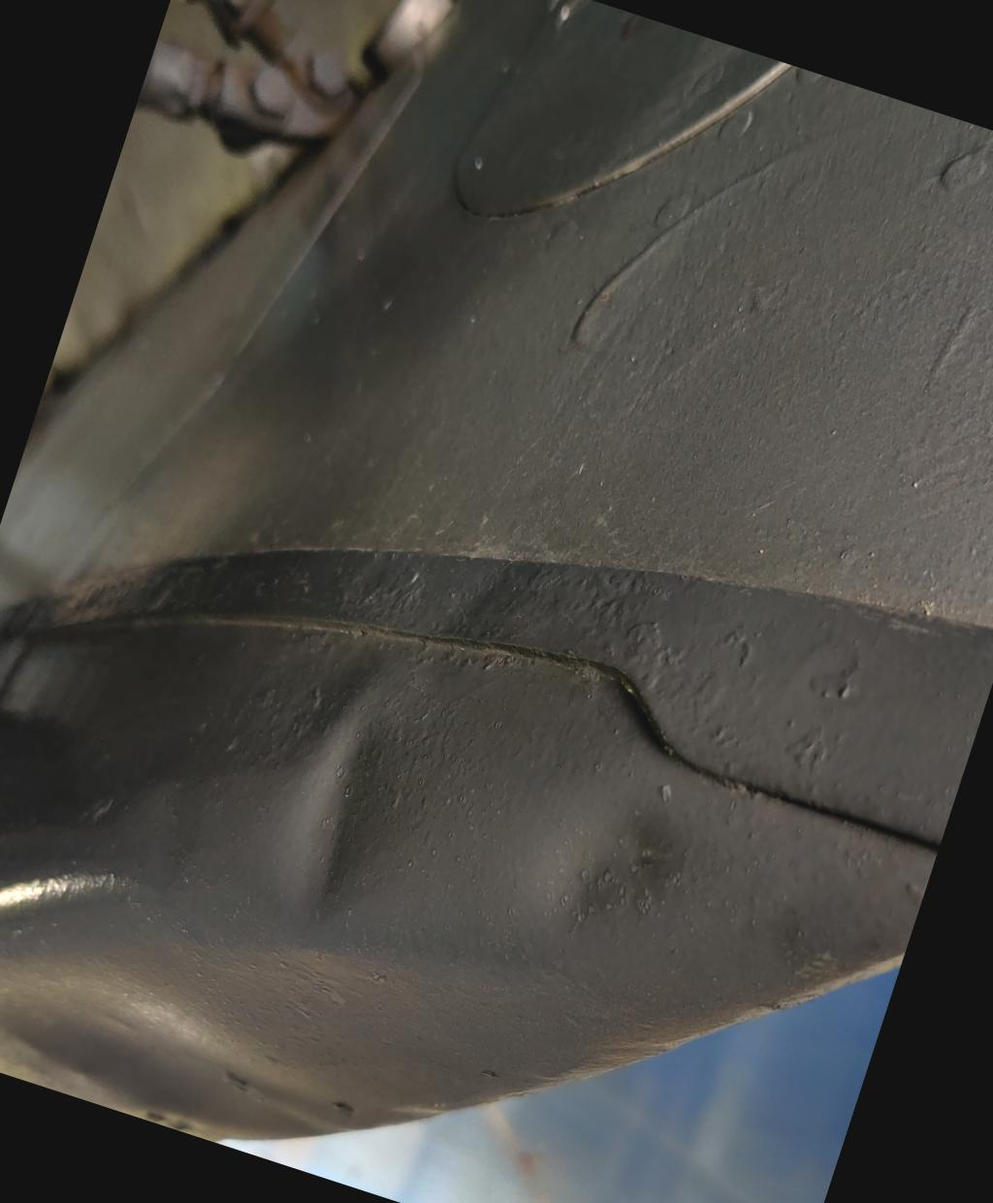dent: (232, 658, 462, 963), (507, 736, 734, 992)
